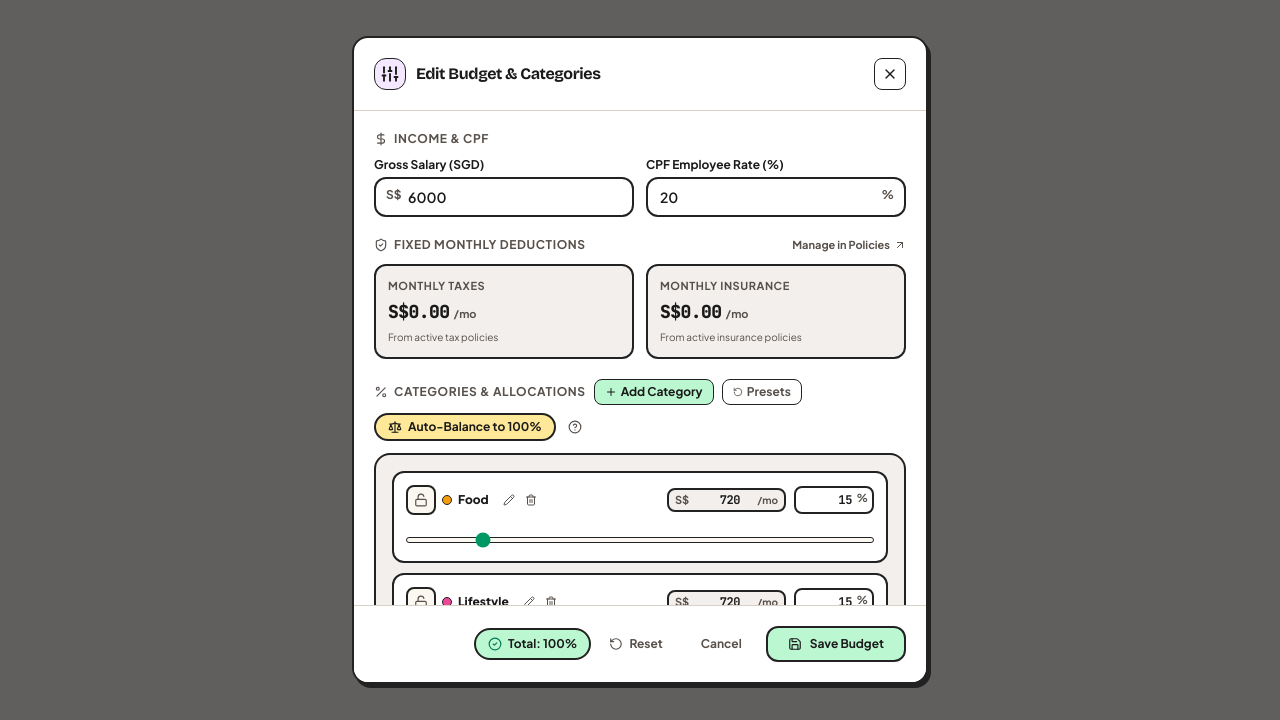
it: Interactive Sliders, Live Dollar Equivalent & Auto-Balance › renders range sliders, live SGD equivalent, lock toggle and auto-balance button in BaseProfileEditorModal
expect the button "Auto-Balance to 100%" is shown: met, box [374,413,556,441]
Step 1. Click the button named "category lock explanation" → (575, 427), box [564,416,586,438]
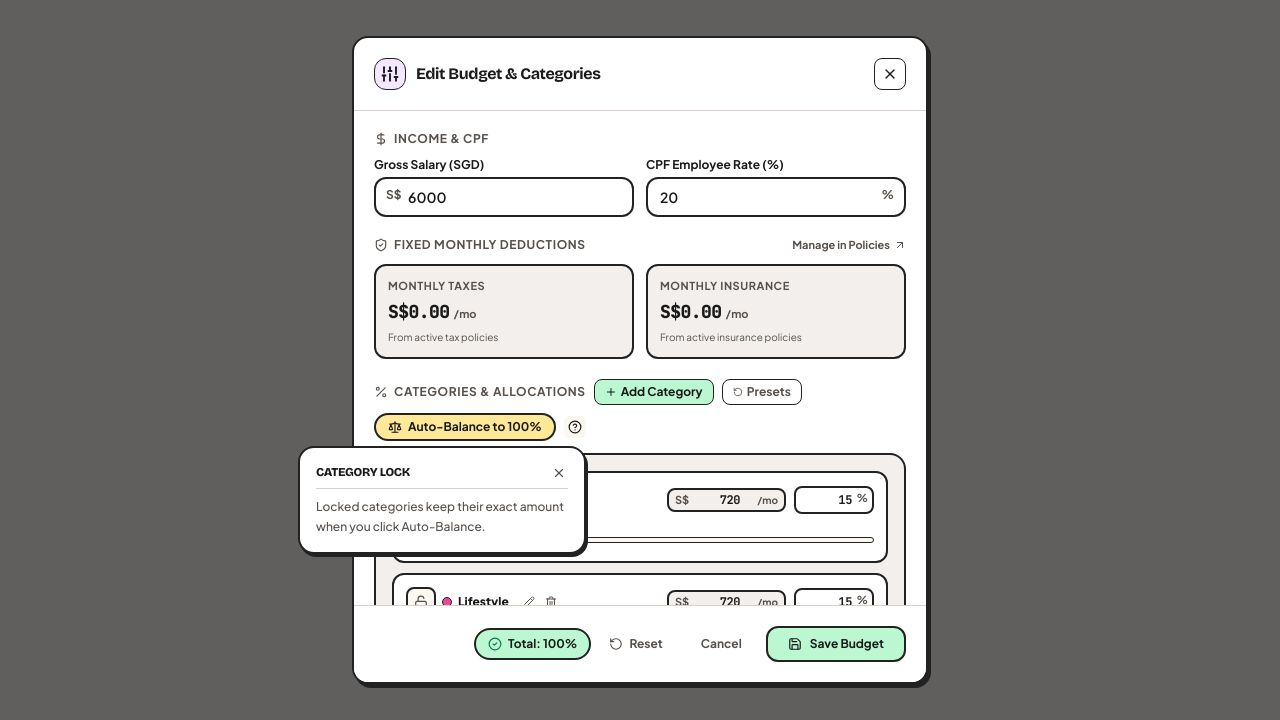
expect the text "Locked categories keep their exact amount when you click Auto-Balance." is shown: met, box [316,497,568,536]
